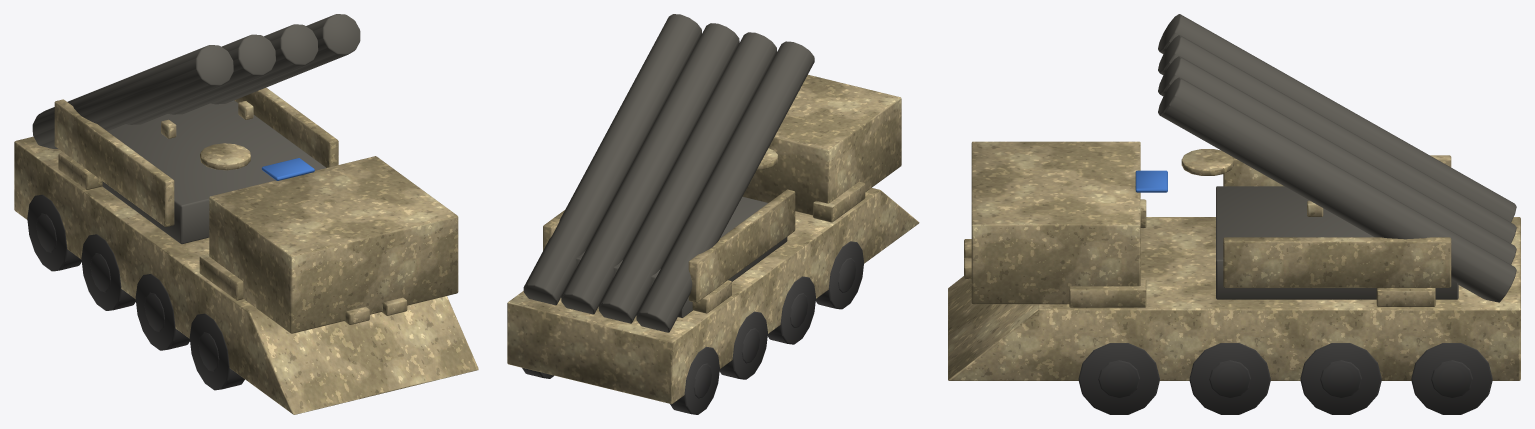
The model's file is sam_e4_us_launcher_LOD0.glb.
3 views of the same model, side by side, from view 1: azimuth 30°, elevation 25°; view 2: azimuth 150°, elevation 25°; view 3: azimuth 270°, elevation 25° (orthographic). The views are drawn at different scales.
Visible parts, largest first — view 1: sam_e4_us_launcher_LOD0_body, sam_e4_us_launcher_LOD0_deck, sam_e4_us_launcher_LOD0_track, sam_e4_us_launcher_LOD0_team; view 2: sam_e4_us_launcher_LOD0_deck, sam_e4_us_launcher_LOD0_body, sam_e4_us_launcher_LOD0_track; view 3: sam_e4_us_launcher_LOD0_body, sam_e4_us_launcher_LOD0_deck, sam_e4_us_launcher_LOD0_track, sam_e4_us_launcher_LOD0_team.
Part boxes in pixels (left/top/right/bottom): sam_e4_us_launcher_LOD0_body: left=14, top=87, right=478, bottom=414; sam_e4_us_launcher_LOD0_deck: left=32, top=14, right=360, bottom=244; sam_e4_us_launcher_LOD0_track: left=27, top=194, right=244, bottom=390; sam_e4_us_launcher_LOD0_team: left=261, top=158, right=314, bottom=180; sam_e4_us_launcher_LOD0_deck: left=523, top=14, right=814, bottom=332; sam_e4_us_launcher_LOD0_body: left=507, top=74, right=919, bottom=404; sam_e4_us_launcher_LOD0_track: left=522, top=241, right=863, bottom=414; sam_e4_us_launcher_LOD0_body: left=948, top=141, right=1520, bottom=380; sam_e4_us_launcher_LOD0_deck: left=1158, top=14, right=1516, bottom=302; sam_e4_us_launcher_LOD0_track: left=1078, top=343, right=1492, bottom=414; sam_e4_us_launcher_LOD0_team: left=1135, top=170, right=1167, bottom=192.
Size of the model in its own units: 3.04 by 4.81 by 7.79.
Materials: 5 (1 with a texture image).
